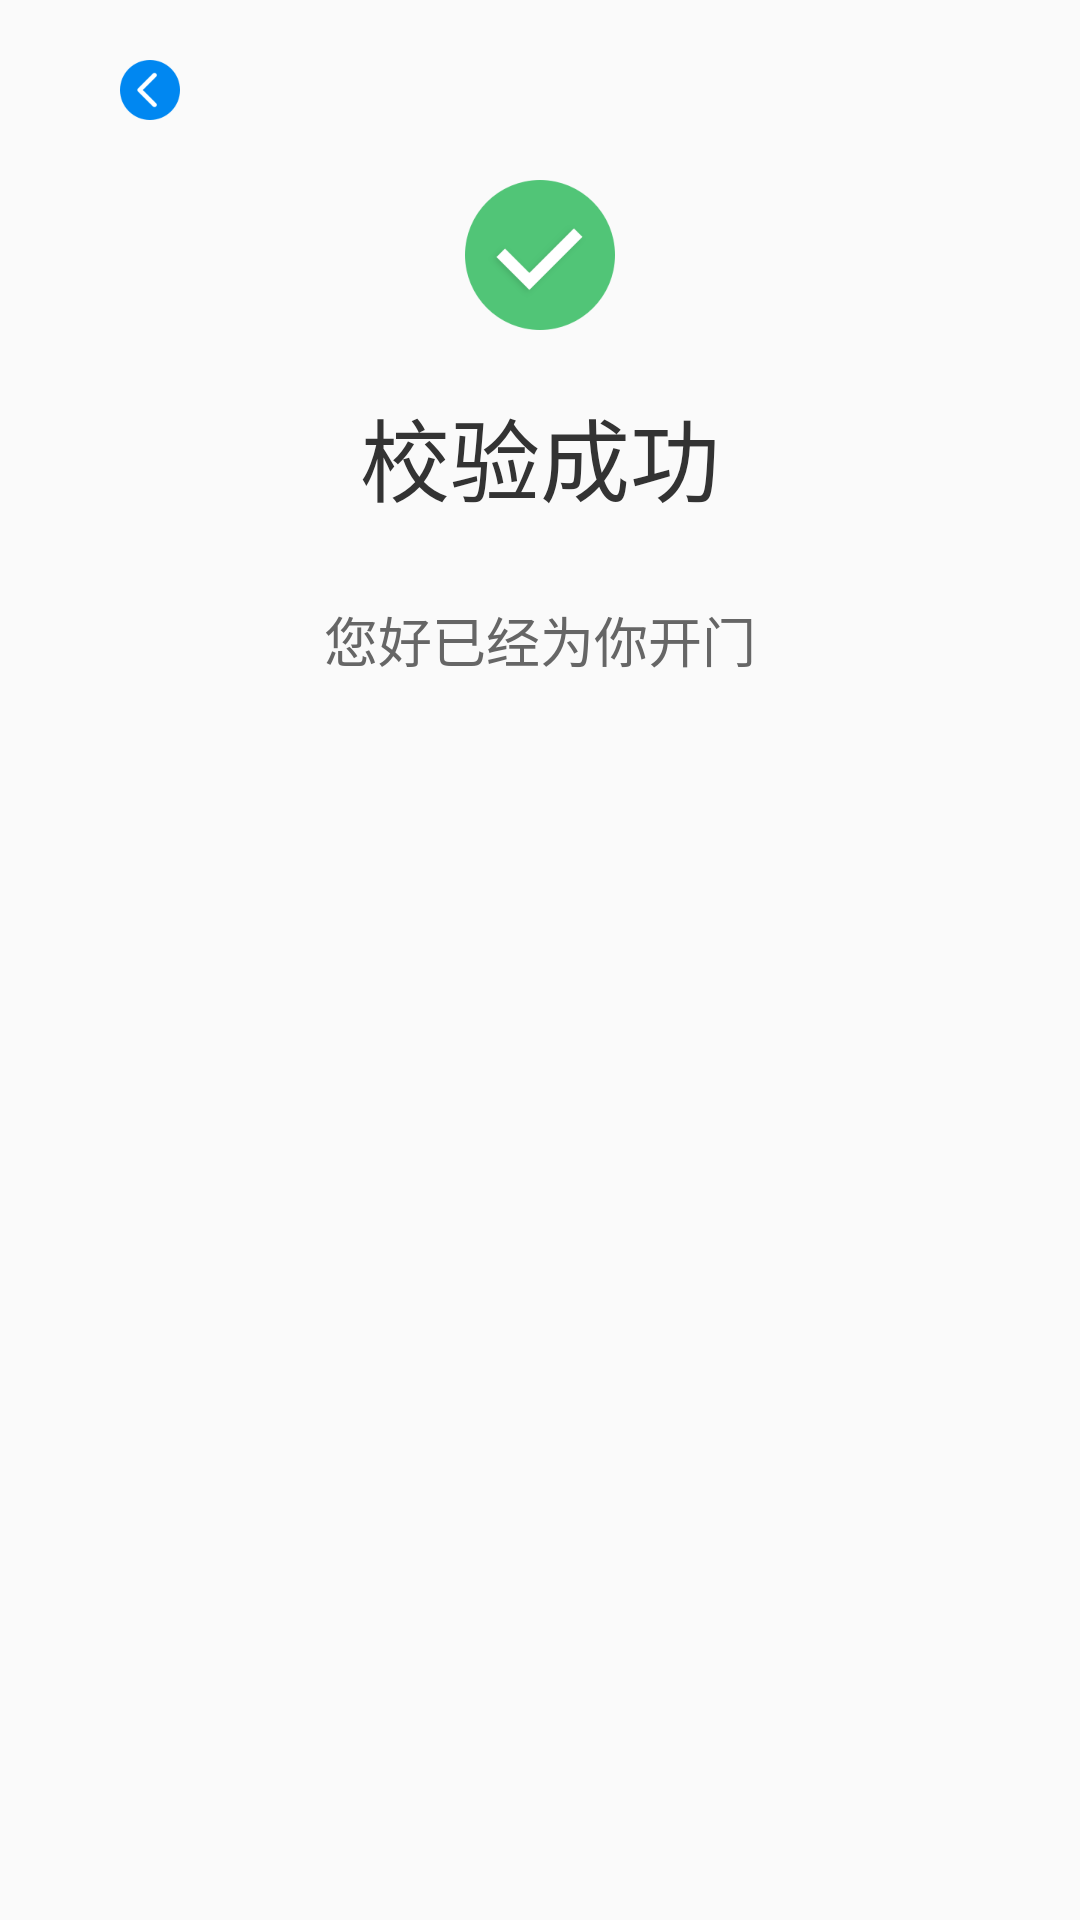

Where to tap for icons on this 1080 x 1920 app screen, as (x,y):
back: (150,90)
success: (540,255)
